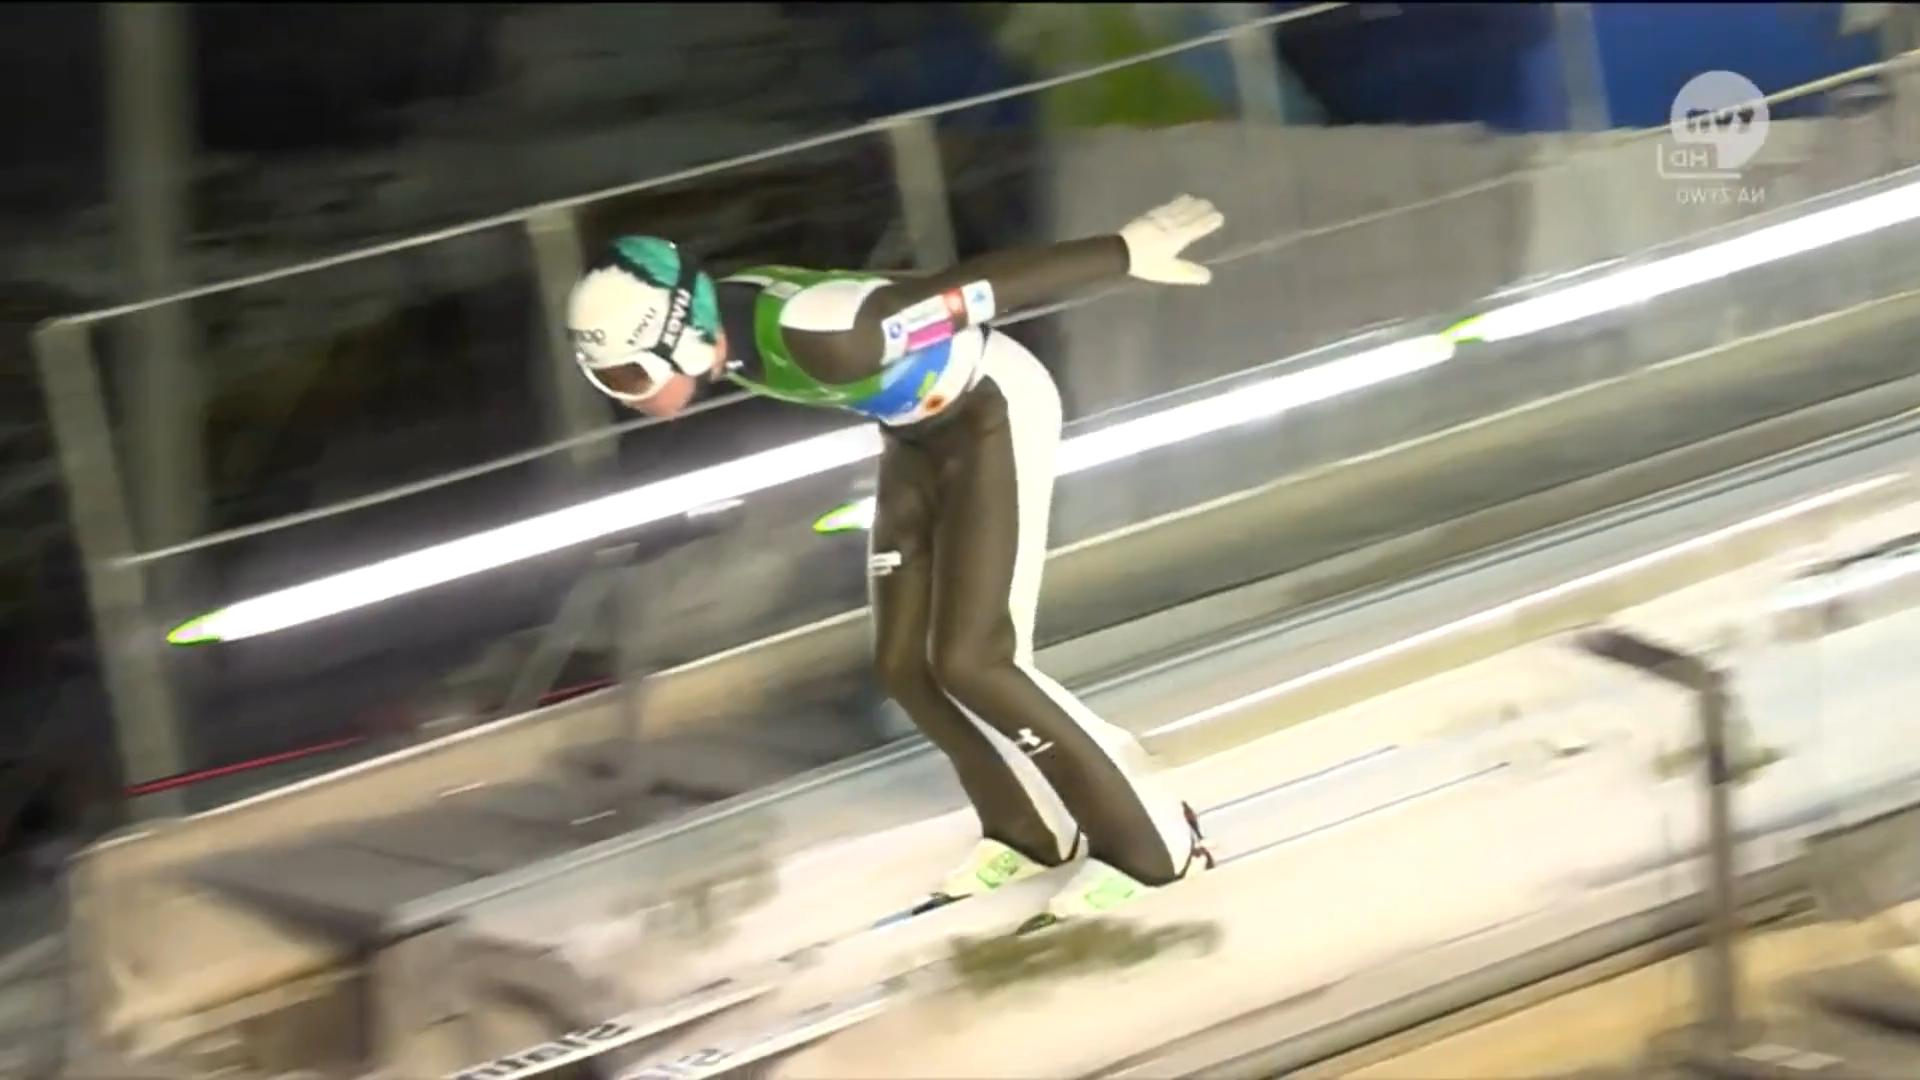prog: (187, 866, 531, 975)
